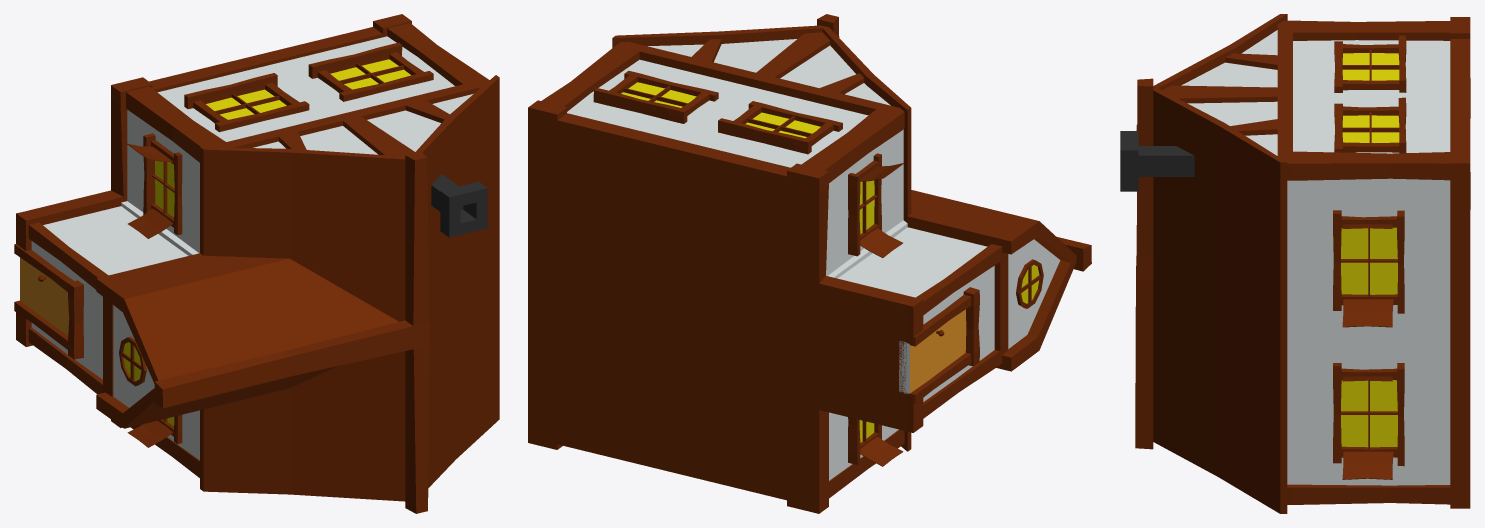
The model's file is House05.fbx.
3 renders of one model, left to right at view 1: azimuth 30°, elevation 25°; view 2: azimuth 150°, elevation 25°; view 3: azimuth 270°, elevation 25°, orthographic. The views are drawn at different scales.
Parts seen in each view (by area): view 1: House_05; view 2: House_05; view 3: House_05.
Part boxes in pixels (box(x1,y1,x2,y2)): House_05: box(14, 14, 499, 513); House_05: box(528, 14, 1091, 513); House_05: box(1120, 14, 1470, 513).
Size of the model in its own units: 9.32 by 7.23 by 6.33.
